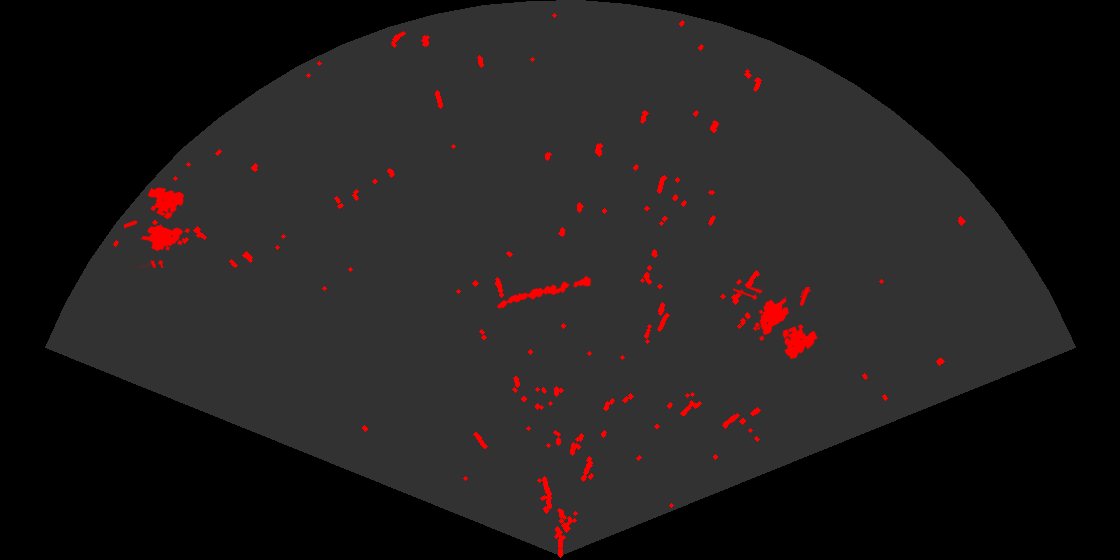cage: (733, 287, 819, 361), (124, 186, 191, 268)
chain: (495, 274, 594, 310)
